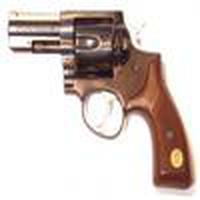gun: (4, 8, 191, 190)
